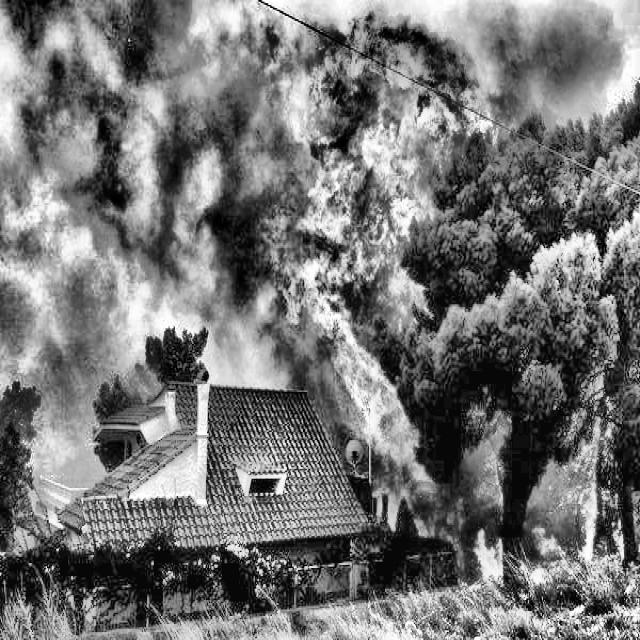fire: (246, 31, 478, 493), (427, 298, 603, 598)
